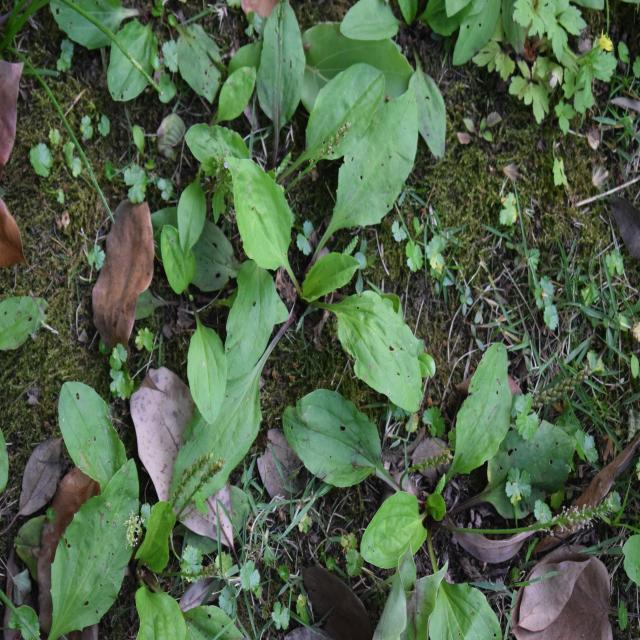plantain: (231, 79, 432, 401)
